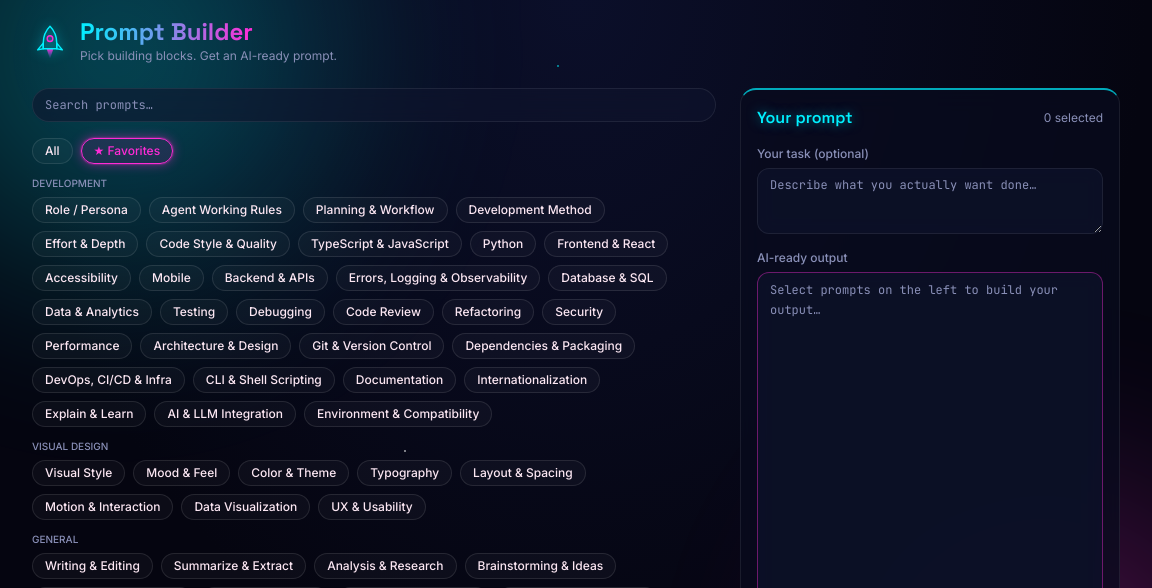
App filtering › shows prompts from every category on the All filter
The image size is (1152, 588).
Click the button "All". click: [52, 151]
box: [32, 138, 73, 164]
(page scrolled)
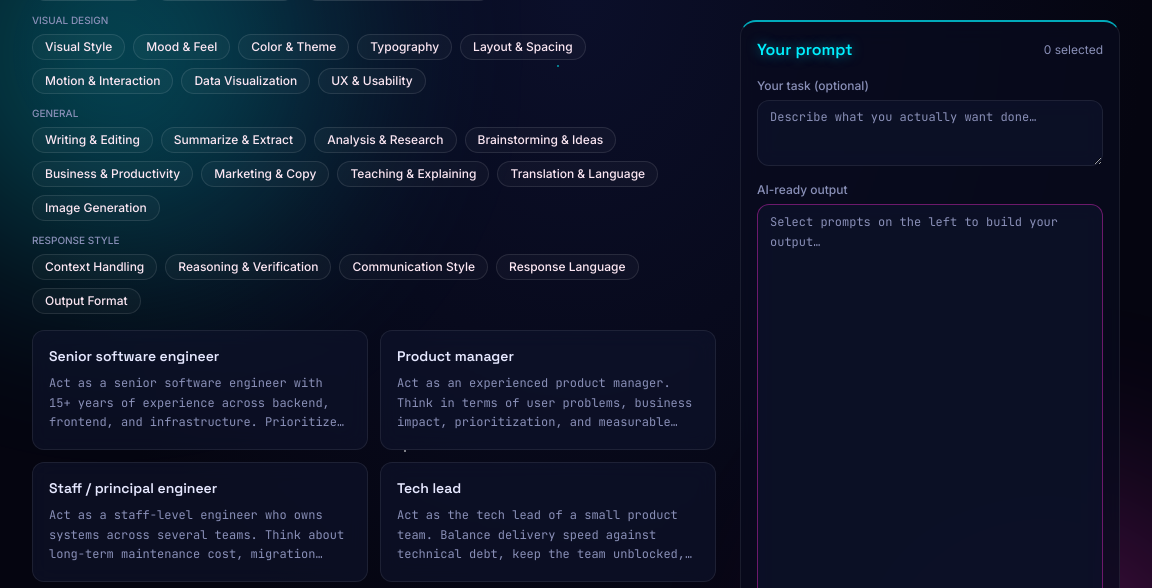
Expected: the heading "Senior software engineer" is shown, [49, 347, 219, 366]
